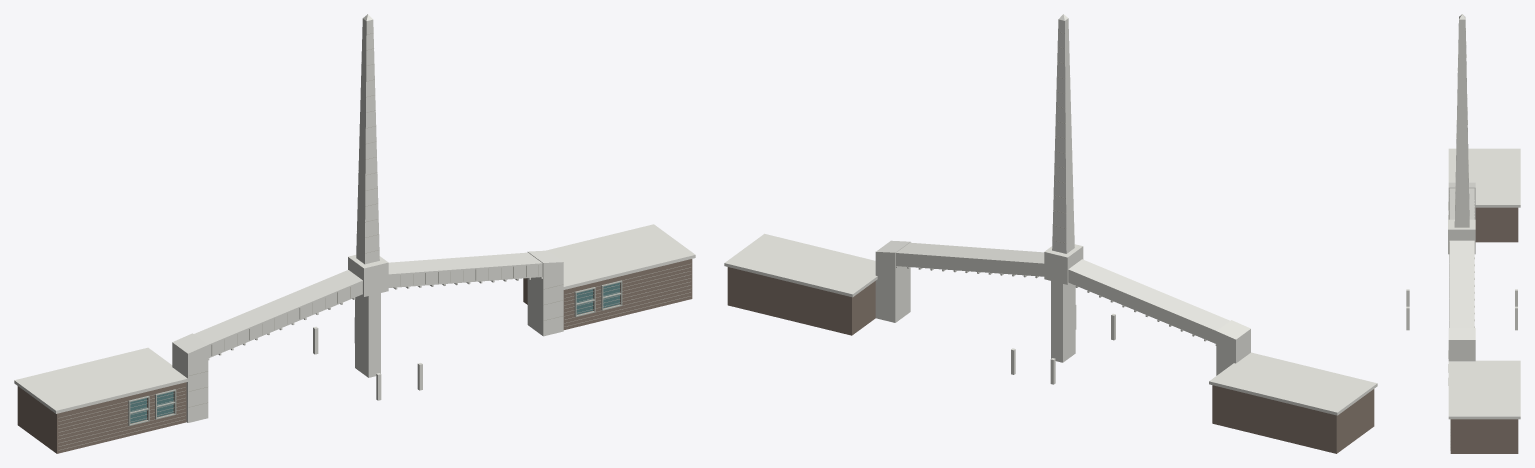
The picture shows the model from 3 angles, left to right: view 1: azimuth 30°, elevation 25°; view 2: azimuth 150°, elevation 25°; view 3: azimuth 270°, elevation 25°; orthographic projection. The views are drawn at different scales.
Visible parts, largest first — view 1: N1 wing pale fascia -1, N1 brick guard wing -1, N1 wing pale fascia 1, N1 sloping portal beam -1, N1 brick guard wing 1, N1 tapering obelisk, N1 sloping portal beam 1, N1 outer granite pier 1, N1 outer granite pier -1, N1 centre pier, N1 central granite plaque; view 2: N1 brick guard wing -1, N1 brick guard wing 1, N1 wing pale fascia -1, N1 wing pale fascia 1, N1 sloping portal beam -1, N1 tapering obelisk, N1 sloping portal beam 1, N1 outer granite pier 1, N1 centre pier, N1 outer granite pier -1, N1 central granite plaque; view 3: N1 wing pale fascia 1, N1 wing pale fascia -1, N1 tapering obelisk, N1 brick guard wing 1, N1 sloping portal beam 1, N1 brick guard wing -1, N1 outer granite pier 1, N1 central granite plaque, N1 sloping portal beam -1, N1 outer granite pier -1.
Part boxes in pixels (bbox=[...]): N1 wing pale fascia -1: bbox=[14, 347, 189, 413]; N1 brick guard wing -1: bbox=[17, 382, 186, 453]; N1 wing pale fascia 1: bbox=[546, 224, 695, 290]; N1 sloping portal beam -1: bbox=[194, 270, 362, 358]; N1 brick guard wing 1: bbox=[523, 259, 692, 329]; N1 tapering obelisk: bbox=[356, 14, 379, 264]; N1 sloping portal beam 1: bbox=[388, 252, 542, 287]; N1 outer granite pier 1: bbox=[527, 250, 563, 336]; N1 outer granite pier -1: bbox=[172, 333, 208, 422]; N1 centre pier: bbox=[355, 293, 380, 377]; N1 central granite plaque: bbox=[348, 255, 388, 296]; N1 brick guard wing -1: bbox=[1212, 385, 1374, 453]; N1 brick guard wing 1: bbox=[727, 267, 875, 335]; N1 wing pale fascia -1: bbox=[1209, 352, 1377, 415]; N1 wing pale fascia 1: bbox=[724, 233, 877, 297]; N1 sloping portal beam -1: bbox=[1068, 259, 1229, 343]; N1 tapering obelisk: bbox=[1052, 14, 1074, 253]; N1 sloping portal beam 1: bbox=[896, 242, 1044, 276]; N1 outer granite pier 1: bbox=[875, 240, 910, 322]; N1 centre pier: bbox=[1051, 281, 1075, 362]; N1 outer granite pier -1: bbox=[1216, 320, 1250, 375]; N1 central granite plaque: bbox=[1044, 244, 1083, 284]; N1 wing pale fascia 1: bbox=[1448, 360, 1520, 419]; N1 wing pale fascia -1: bbox=[1448, 148, 1520, 207]; N1 tapering obelisk: bbox=[1454, 14, 1469, 227]; N1 brick guard wing 1: bbox=[1450, 419, 1518, 453]; N1 sloping portal beam 1: bbox=[1449, 240, 1474, 327]; N1 brick guard wing -1: bbox=[1475, 207, 1518, 242]; N1 outer granite pier 1: bbox=[1448, 328, 1475, 361]; N1 central granite plaque: bbox=[1448, 219, 1475, 254]; N1 sloping portal beam -1: bbox=[1449, 188, 1474, 219]; N1 outer granite pier -1: bbox=[1448, 182, 1475, 219].
Size of the model in its own units: 46.8 by 25 by 8.42.
